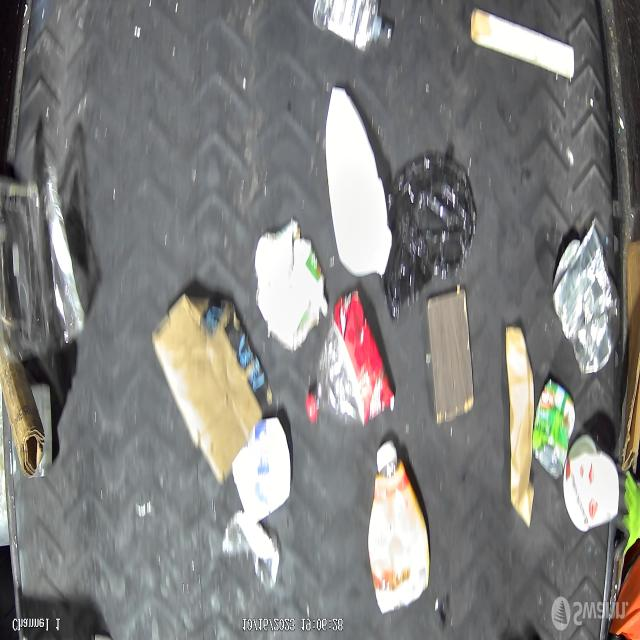can: (553, 219, 621, 374), (253, 220, 327, 349), (532, 378, 576, 481), (26, 382, 54, 482)
milk_jug: (325, 85, 392, 278)
plastic_bottle: (305, 288, 396, 426), (312, 0, 394, 57)
